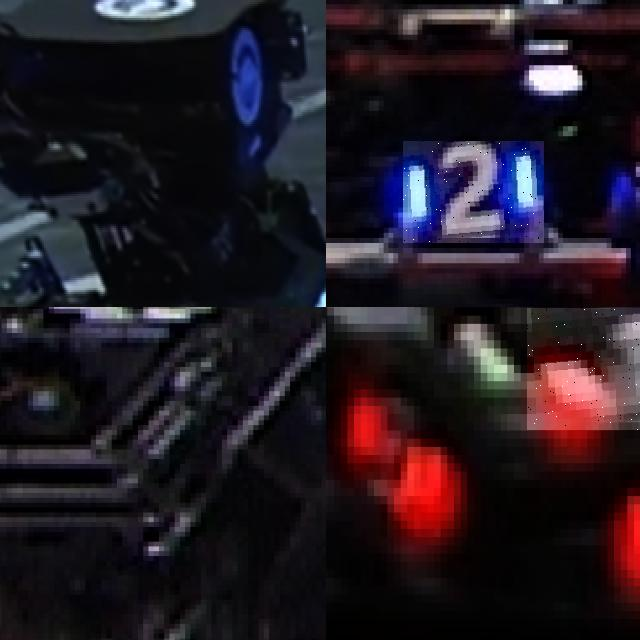B2: (403, 141, 544, 243)
R3: (340, 381, 440, 537), (527, 307, 640, 430)
